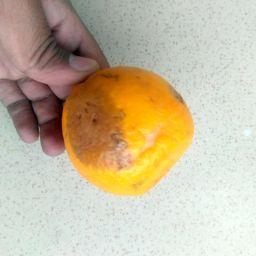Ripe: (62, 66, 194, 198)
